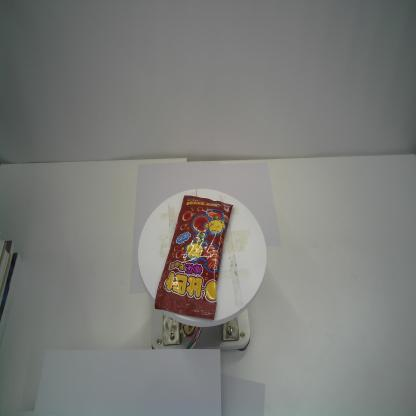Candy: (151, 194, 234, 322)
